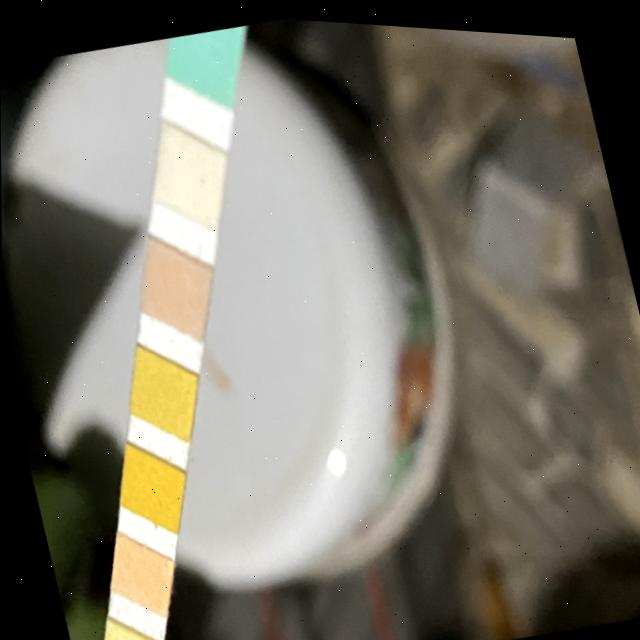Bilirubin: (158, 138, 220, 214)
Blood: (123, 458, 177, 518)
Glucose: (173, 23, 236, 91)
Ketone: (146, 255, 204, 324)
Protein: (104, 633, 152, 640)
SpGravity: (134, 362, 190, 426)
pH: (114, 545, 163, 603)
